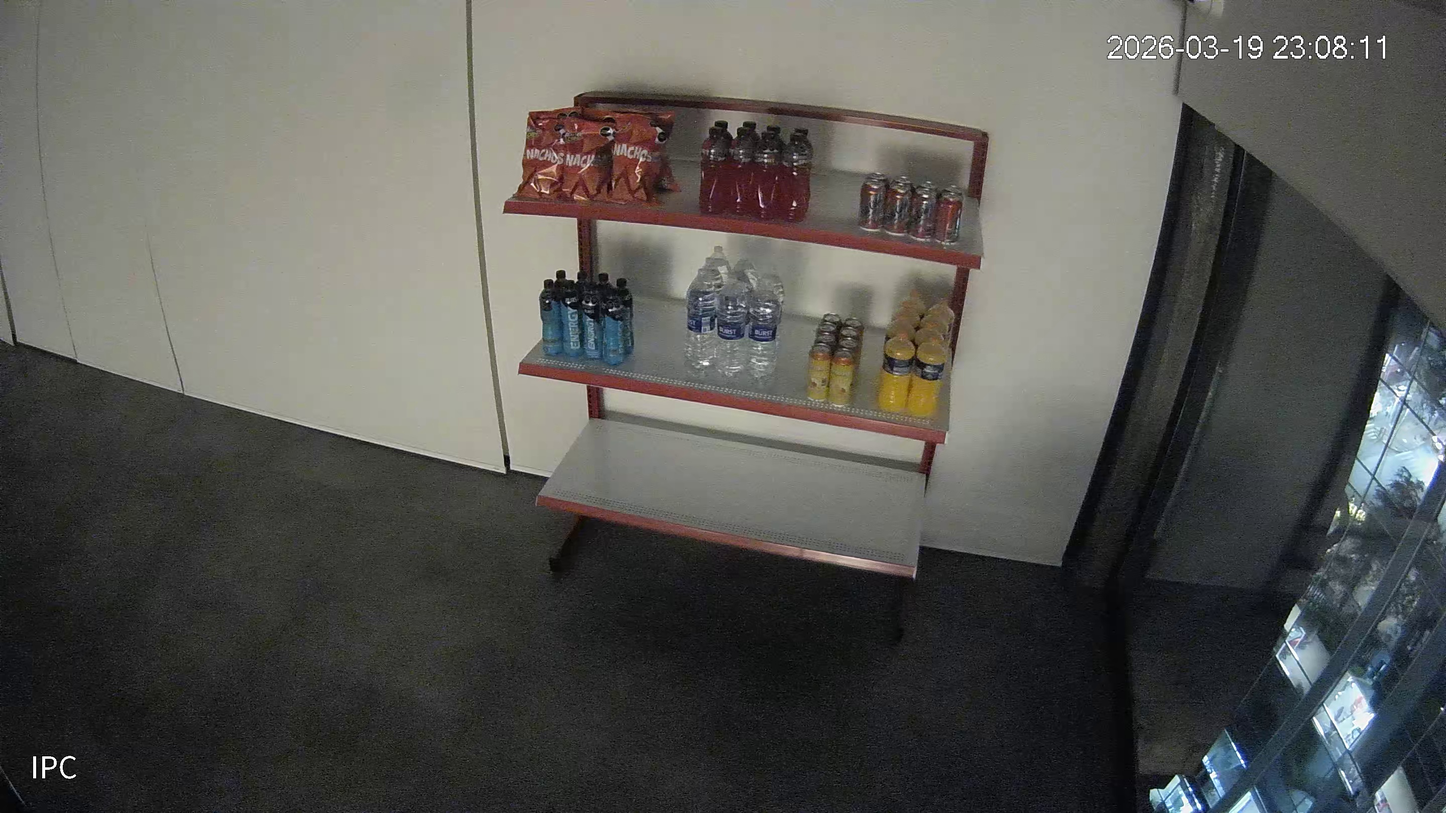agua_burst: (746, 277, 779, 378), (681, 267, 714, 366), (717, 276, 746, 374)
burst_energetica_roja: (766, 125, 785, 153), (712, 121, 732, 144), (742, 122, 758, 150)
burst_energy: (539, 280, 560, 357), (602, 289, 623, 365), (582, 283, 600, 358)
nachos_naturasol: (610, 115, 667, 207), (516, 118, 566, 202), (529, 107, 584, 120)
nebraska_mango: (831, 349, 855, 406), (807, 346, 830, 401), (822, 312, 841, 324)
sisi_cola: (860, 180, 887, 232), (935, 193, 962, 242), (891, 174, 916, 193)
sun_paradise_naranja: (877, 331, 915, 412), (927, 295, 955, 341), (893, 299, 919, 327)
